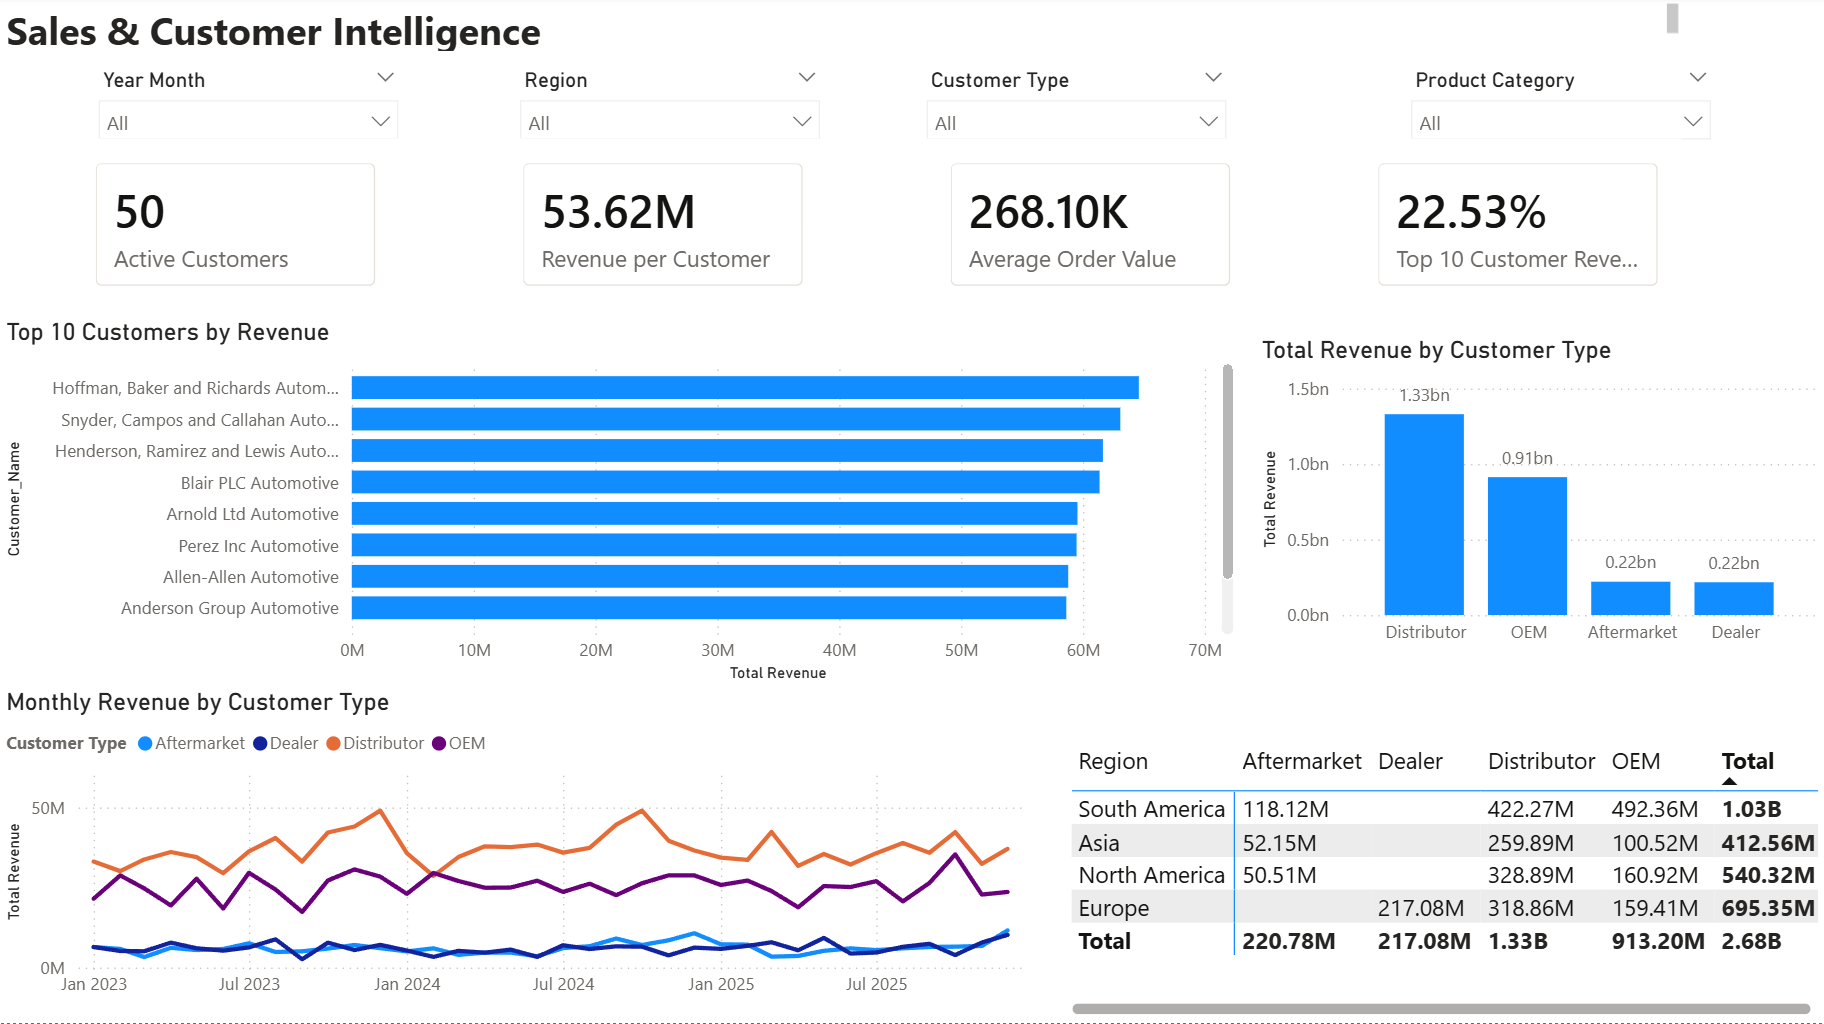

The page's visual inventory and layout, read from the dashboard file:
{"tool":"powerbi","page":{"name":"Sales & Customer Intelligence","canvas":[1280,720],"ordinal":1},"visuals":[{"type":"clusteredBarChart","title":"Top 10 Customers by Revenue","fields":{"Category":["customers.Customer_Name"],"Y":["sales_orders.Total Revenue"]},"box":[0,225,870,260],"z":0},{"type":"columnChart","title":"Total Revenue by Customer Type","fields":{"Category":["customers.Customer_Type"],"Y":["sales_orders.Total Revenue"]},"box":[880,237.5,400,235],"z":1000},{"type":"pivotTable","fields":{"Columns":["customers.Customer_Type"],"Rows":["regions.Region"],"Values":["sales_orders.Revenue Display"]},"box":[746.2,518.8,533.8,201.2],"z":2000},{"type":"textbox","box":[0,0,1182.2,43.2],"z":3000},{"type":"slicer","fields":{"Values":["Calendar.Year Month"]},"box":[60,45,230,70],"z":4000},{"type":"slicer","fields":{"Values":["regions.Region"]},"box":[355,45,230,70],"z":5000},{"type":"slicer","fields":{"Values":["customers.Customer_Type"]},"box":[640,45,230,70],"z":6000},{"type":"slicer","fields":{"Values":["products.Product_Category"]},"box":[980,45,230,70],"z":7000},{"type":"cardVisual","fields":{"Data":["sales_orders.Active Customers"]},"box":[50,100,230,120],"z":8000},{"type":"cardVisual","fields":{"Data":["sales_orders.Revenue per Customer"]},"box":[350,100,230,120],"z":9000},{"type":"cardVisual","fields":{"Data":["sales_orders.Average Order Value"]},"box":[650,100,230,120],"z":10000},{"type":"cardVisual","fields":{"Data":["sales_orders.Top 10 Customer Revenue %"]},"box":[950,100,230,120],"z":11000},{"type":"lineChart","title":"Monthly Revenue by Customer Type","fields":{"Category":["Calendar.Month Start"],"Series":["customers.Customer_Type"],"Y":["sales_orders.Total Revenue"]},"box":[0,485,733.8,235],"z":12000}]}

Visuals, with their boxes in screenshot pixels (x1, y1, x2, y2), scaled from the page's 1280x720 canvas onto the 1824x1024 screenshot:
"Top 10 Customers by Revenue" clusteredBarChart: [0,320,1240,690]
"Total Revenue by Customer Type" columnChart: [1254,338,1823,672]
pivotTable - customers.Customer_Type x regions.Region: [1063,738,1823,1023]
textbox: [0,0,1685,61]
slicer - Calendar.Year Month: [86,64,413,164]
slicer - regions.Region: [506,64,834,164]
slicer - customers.Customer_Type: [912,64,1240,164]
slicer - products.Product_Category: [1396,64,1724,164]
cardVisual - sales_orders.Active Customers: [71,142,399,313]
cardVisual - sales_orders.Revenue per Customer: [499,142,826,313]
cardVisual - sales_orders.Average Order Value: [926,142,1254,313]
cardVisual - sales_orders.Top 10 Customer Revenue %: [1354,142,1682,313]
"Monthly Revenue by Customer Type" lineChart: [0,690,1046,1023]
